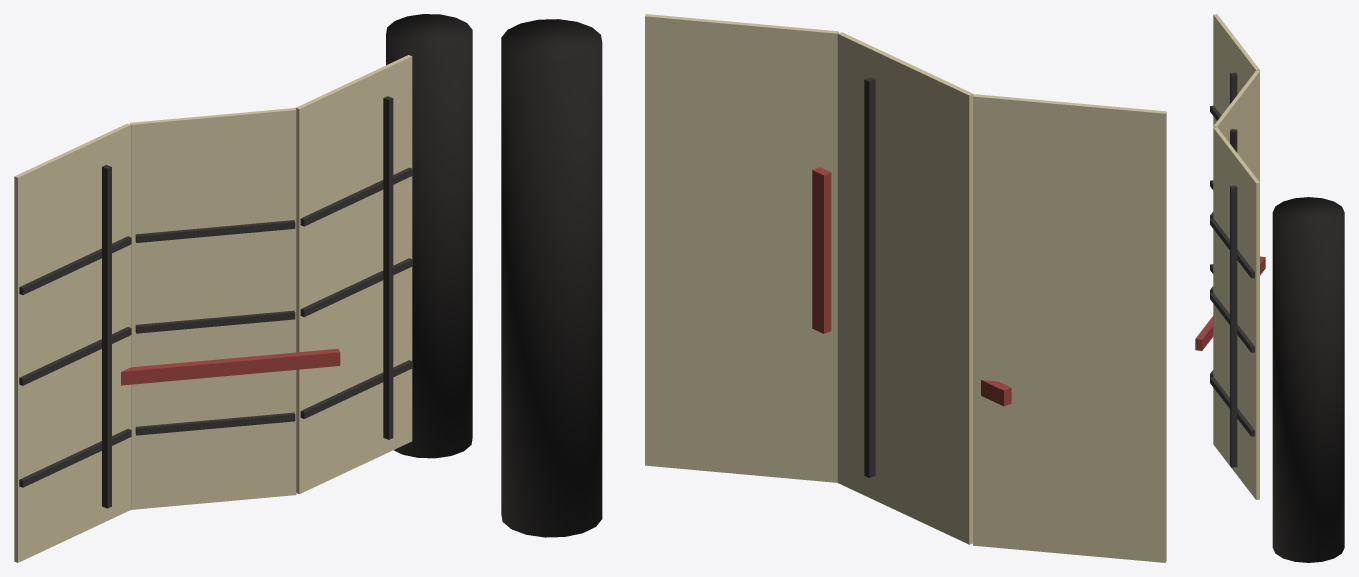
File: map.glb
The picture shows the model from 3 angles, left to right: view 1: azimuth 30°, elevation 25°; view 2: azimuth 150°, elevation 25°; view 3: azimuth 270°, elevation 25°; orthographic projection. The views are drawn at different scales.
Parts seen in each view (by area): view 1: panel.001, panel, panel.002, tube, route, street.002, street, road.003, road.004, road.005, road.006, road.008 (+4 smaller); view 2: panel, panel.002, panel.001, tube, street.001, route2; view 3: tube, panel.002, panel.001, panel, street.002, route, road.008, road.007, road.006, street.
Boxes of the visible parts, left/top/right/bottom form: panel.001: left=130, top=108, right=296, bottom=509; panel: left=14, top=123, right=130, bottom=562; panel.002: left=295, top=55, right=412, bottom=494; tube: left=386, top=14, right=472, bottom=458; route: left=121, top=348, right=340, bottom=385; street.002: left=383, top=96, right=393, bottom=439; street: left=102, top=165, right=111, bottom=508; road.003: left=135, top=412, right=295, bottom=435; road.004: left=135, top=310, right=295, bottom=333; road.005: left=135, top=220, right=295, bottom=242; road.006: left=300, top=360, right=412, bottom=418; road.008: left=300, top=167, right=412, bottom=226; panel: left=973, top=94, right=1166, bottom=562; panel.002: left=645, top=14, right=838, bottom=482; panel.001: left=837, top=32, right=973, bottom=544; tube: left=501, top=19, right=602, bottom=537; street.001: left=864, top=77, right=875, bottom=477; route2: left=812, top=167, right=831, bottom=333; tube: left=1272, top=197, right=1344, bottom=562; panel.002: left=1213, top=127, right=1259, bottom=499; panel.001: left=1213, top=70, right=1259, bottom=181; panel: left=1213, top=14, right=1259, bottom=125; street.002: left=1230, top=185, right=1237, bottom=467; route: left=1195, top=256, right=1265, bottom=350; road.008: left=1210, top=218, right=1254, bottom=278; road.007: left=1210, top=293, right=1254, bottom=352; road.006: left=1210, top=377, right=1254, bottom=436; street: left=1230, top=72, right=1237, bottom=103.
Bounding box in the file's own units: 0.4698 × 0.37 × 0.1452.
